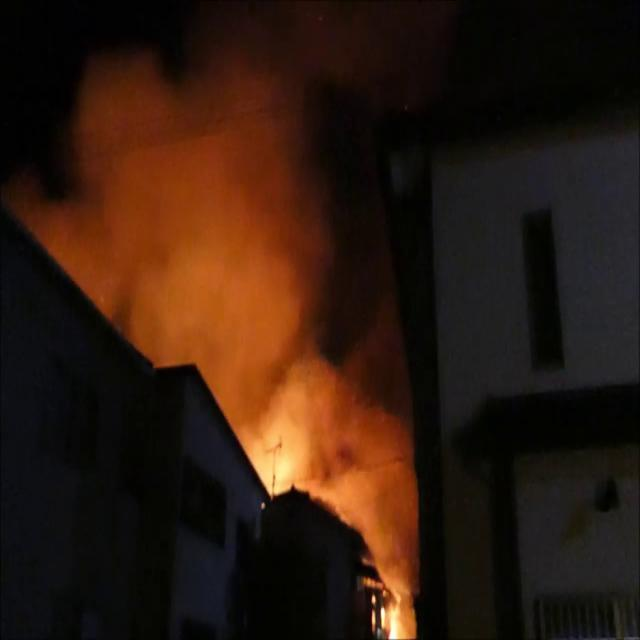Smoke: (8, 14, 410, 529)
